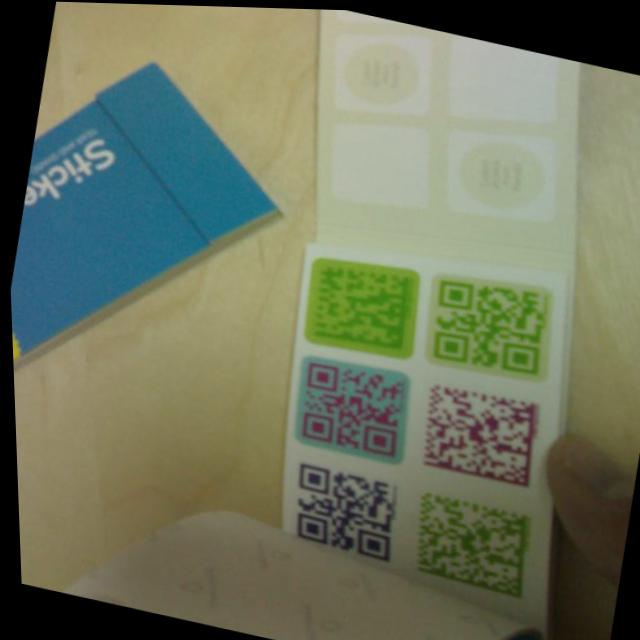qrcode: (424, 268, 553, 378), (282, 460, 401, 560), (292, 357, 408, 457)
